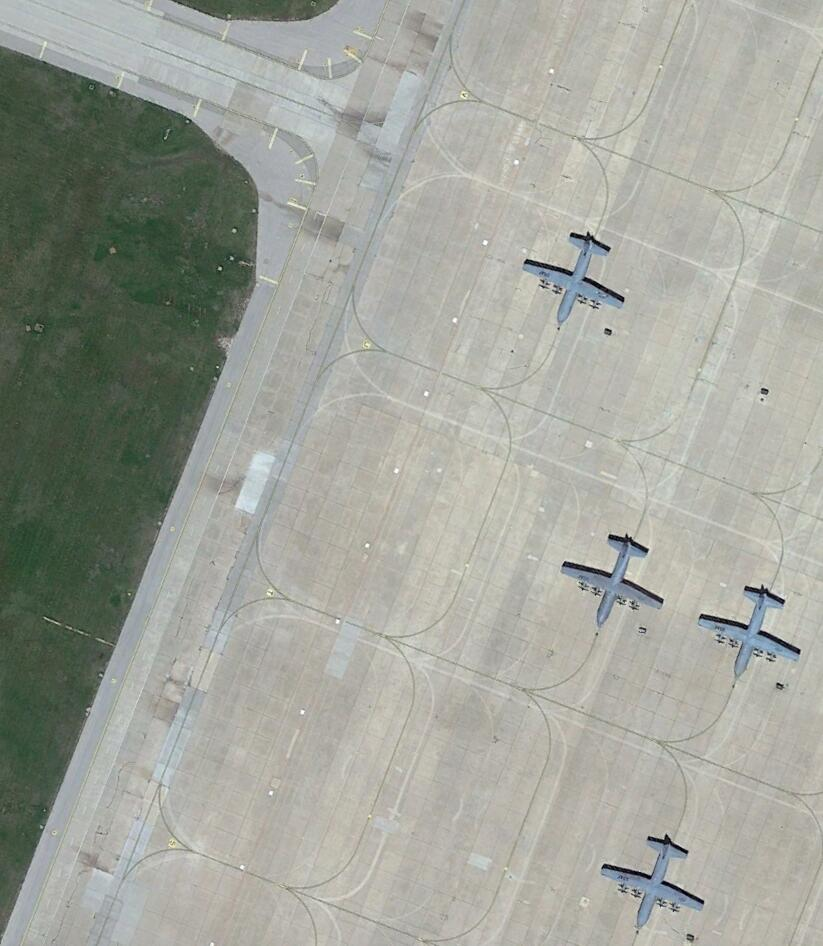A2: (692, 576, 804, 688), (559, 526, 670, 634), (597, 829, 707, 932), (519, 224, 630, 324)
